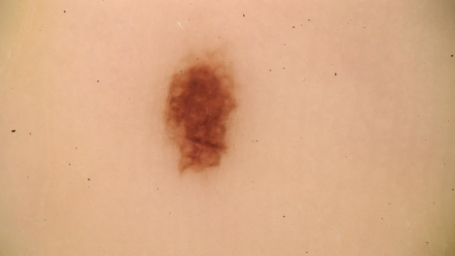melanoma: (167, 64, 236, 172)
